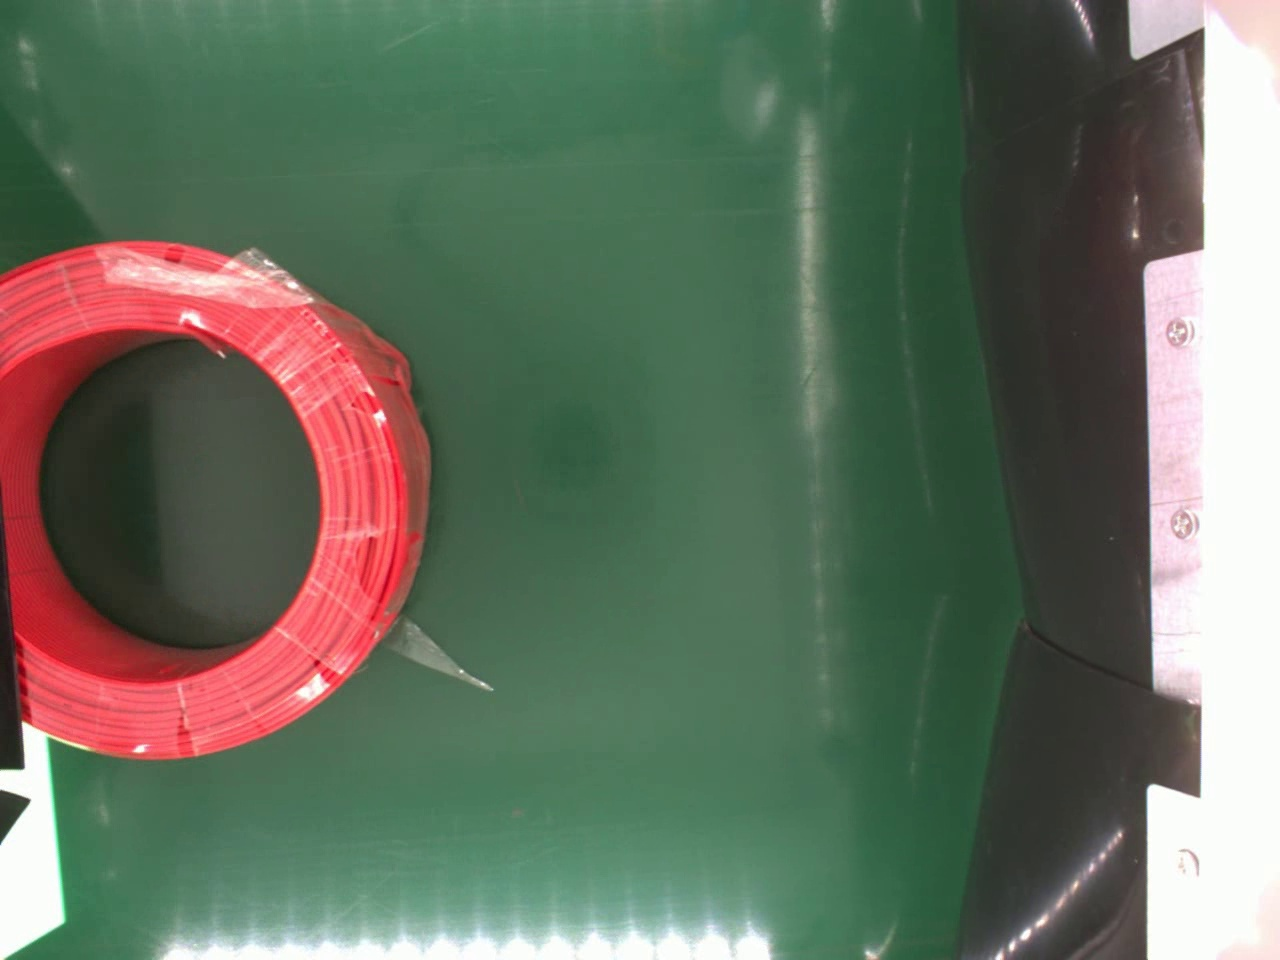red: (0, 227, 434, 764)
